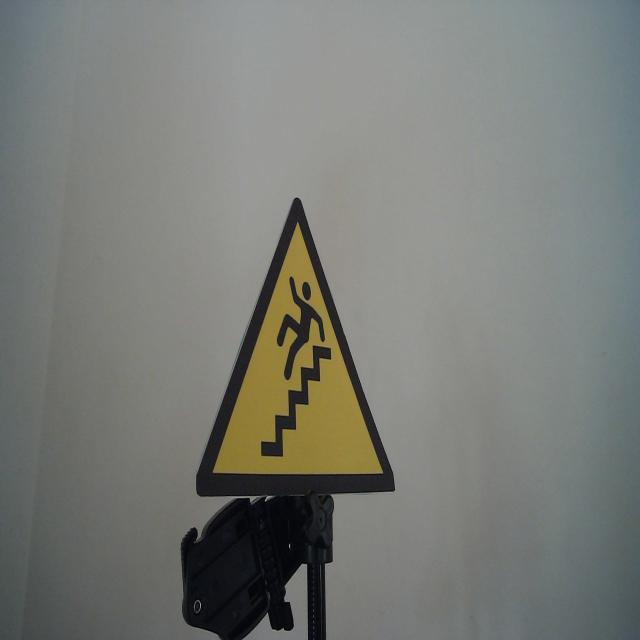stairs: (195, 195, 397, 498)
